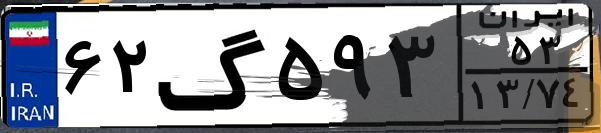1: (470, 70, 495, 125)
2: (110, 28, 156, 98)
3: (385, 28, 445, 110), (537, 27, 568, 80), (495, 70, 520, 125)
4: (560, 70, 590, 125)
5: (270, 28, 330, 110), (508, 27, 537, 80)
6: (57, 26, 110, 100)
7: (535, 70, 560, 125)
9: (330, 28, 385, 110)
گ: (156, 12, 270, 120)
